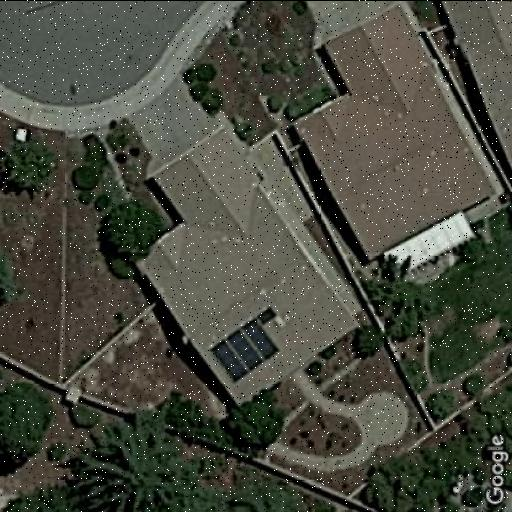solar-panel: (208, 304, 282, 382)
